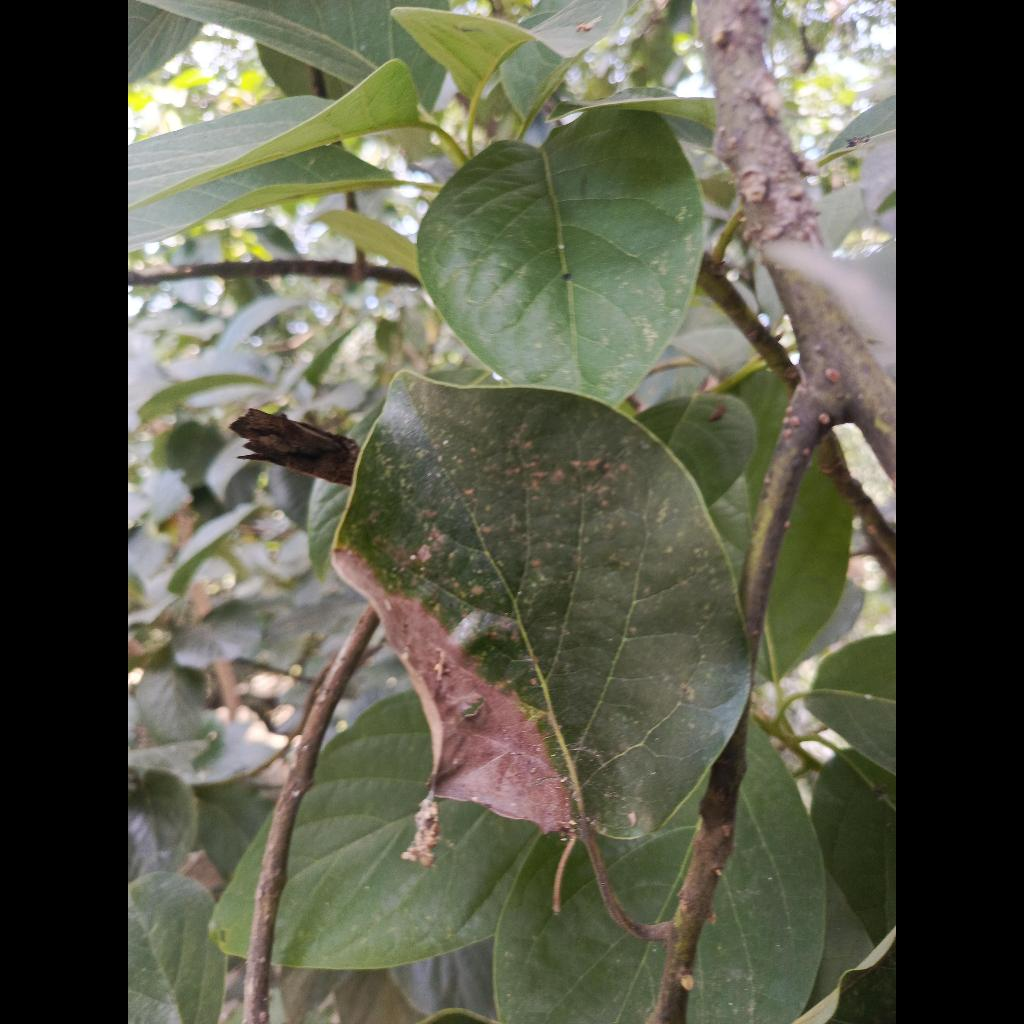antracnosis_hoja: (333, 373, 749, 839)
